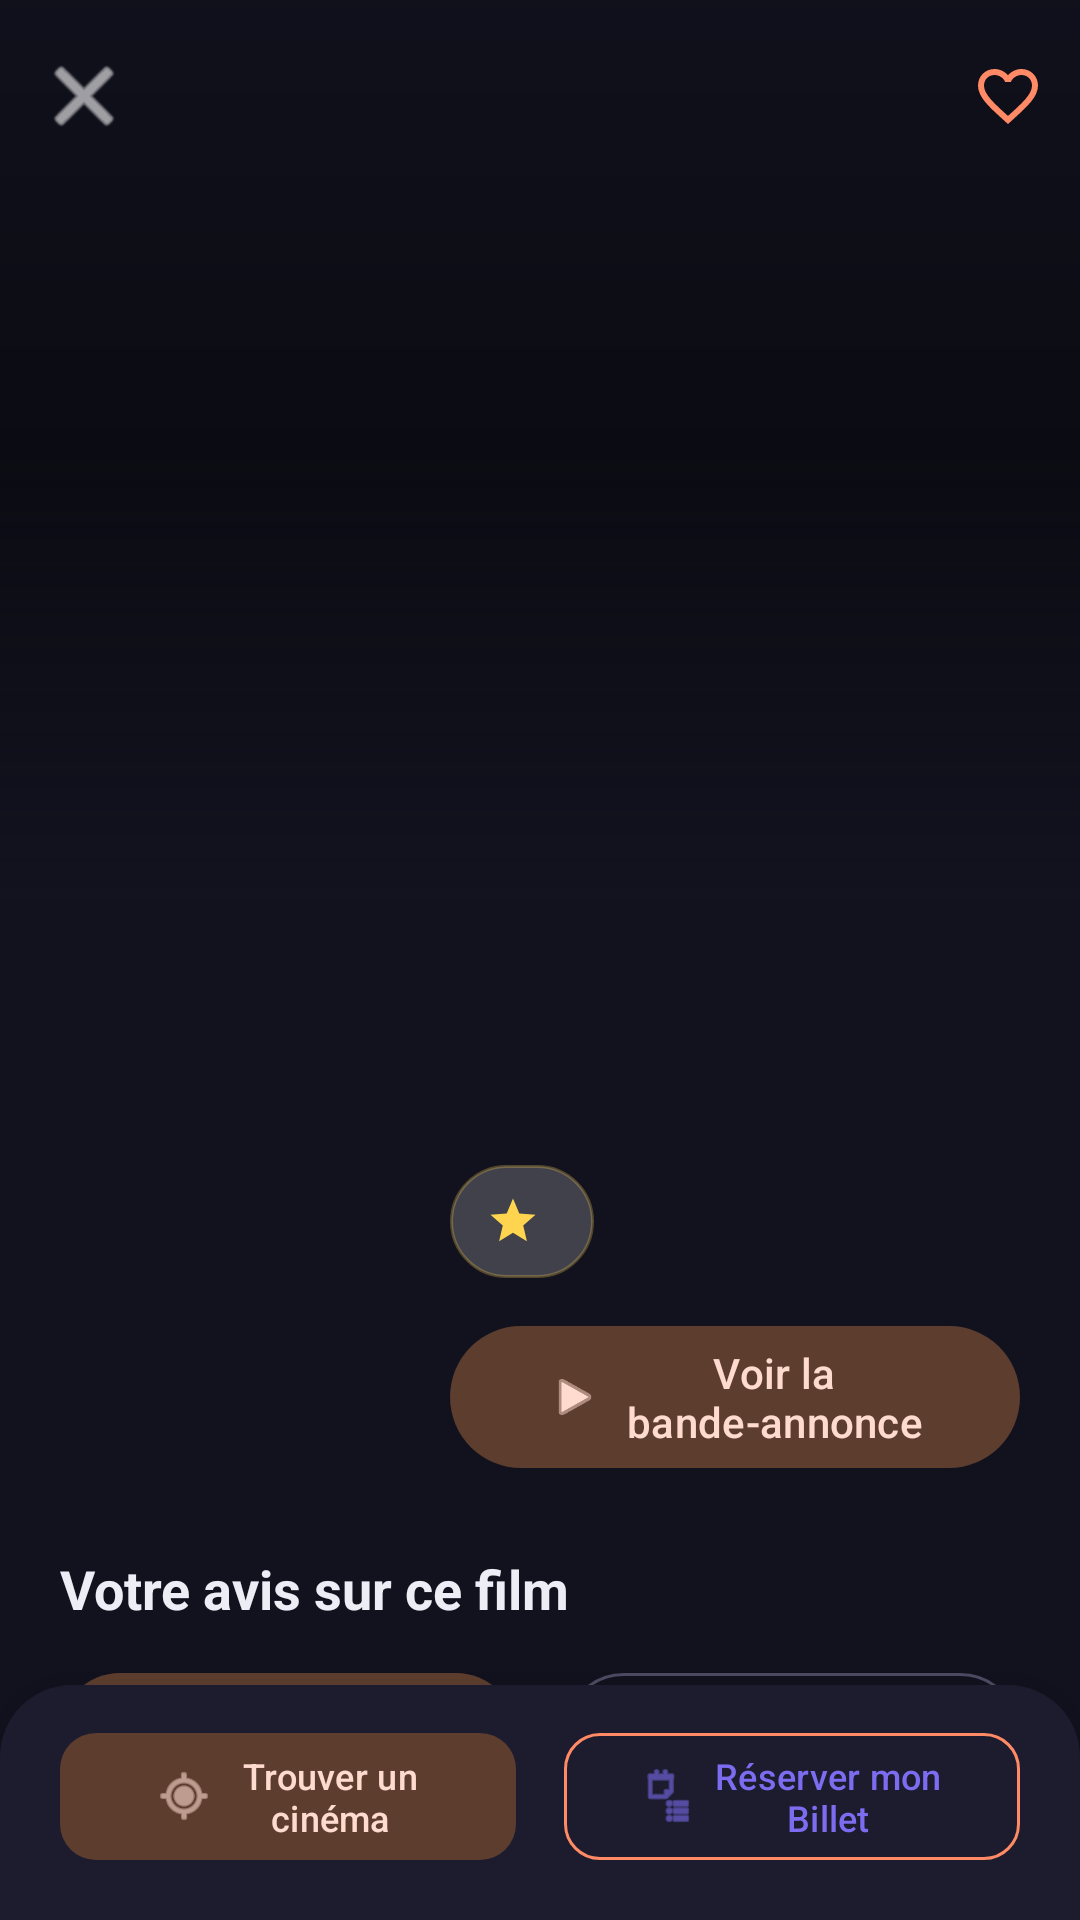

Where icons sit on this 1080px×1920px app screen, as (x1, y1, x2, y2):
Favoris: (978, 69, 1038, 124)
Note du film: (491, 1199, 535, 1241)
